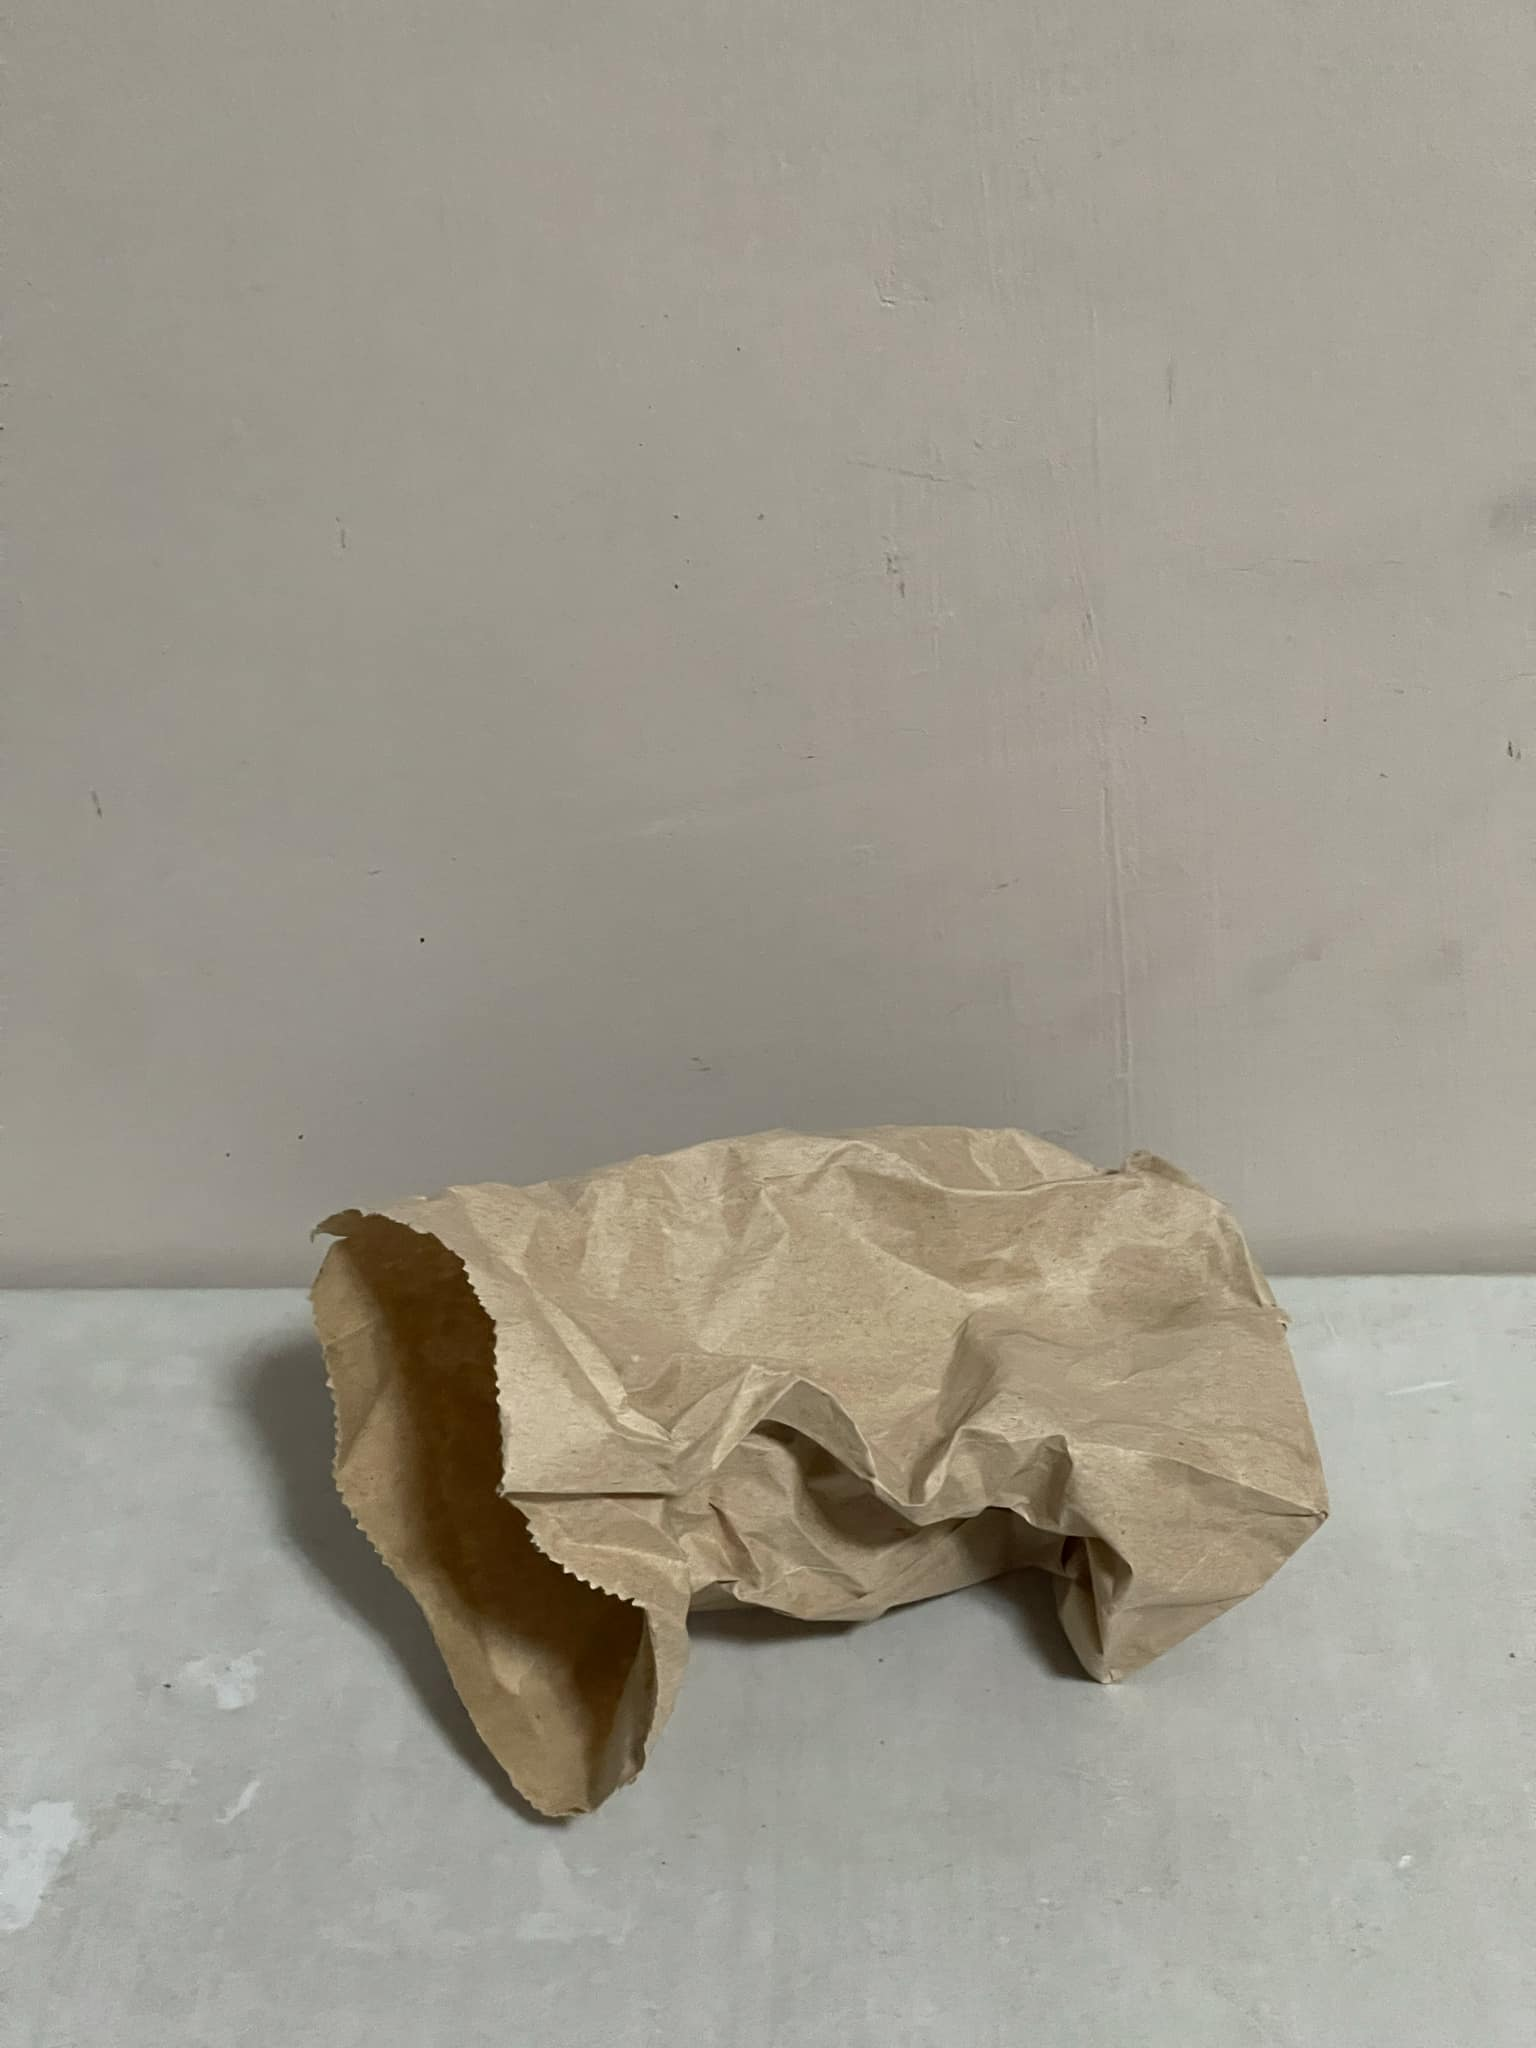Paper Food Packages: (290, 1058, 1315, 1875)
